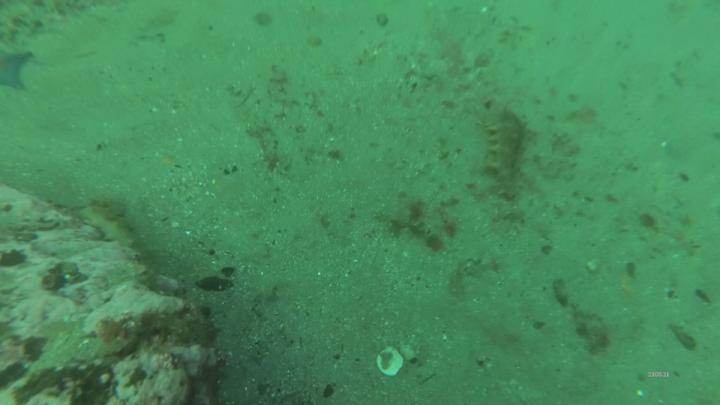holothurian: (80, 196, 143, 263), (486, 106, 527, 192)
scallop: (377, 346, 407, 379)
